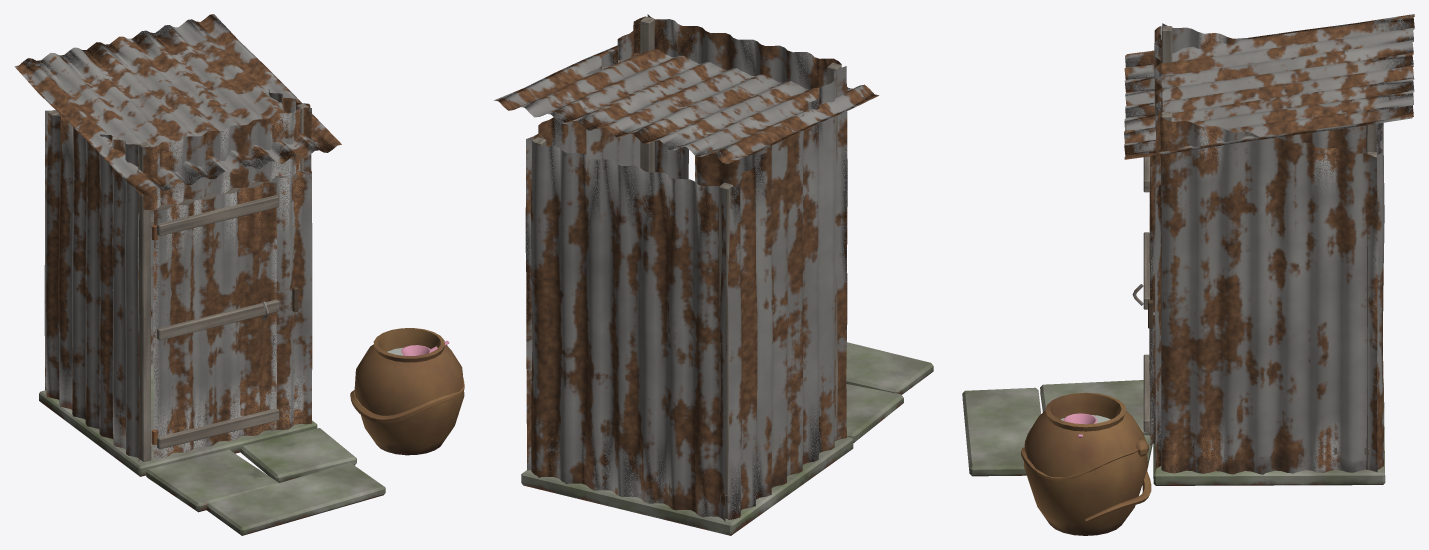
The model's file is TinOuthouse.fbx.
3 views of the same model, side by side, from view 1: azimuth 30°, elevation 25°; view 2: azimuth 150°, elevation 25°; view 3: azimuth 270°, elevation 25° (orthographic). The views are drawn at different scales.
Visible parts, largest first — view 1: TinOuthouse, TinOuthouse_Door, DragonJar; view 2: TinOuthouse, TinOuthouse_Door; view 3: TinOuthouse, DragonJar, TinOuthouse_Door.
Boxes of the visible parts, x1=… form: TinOuthouse: x1=14, y1=14, x2=385, y2=535; TinOuthouse_Door: x1=151, y1=182, x2=279, y2=458; DragonJar: x1=350, y1=328, x2=464, y2=455; TinOuthouse: x1=493, y1=14, x2=933, y2=535; TinOuthouse_Door: x1=695, y1=146, x2=771, y2=186; TinOuthouse: x1=962, y1=14, x2=1414, y2=485; DragonJar: x1=1021, y1=392, x2=1151, y2=535; TinOuthouse_Door: x1=1132, y1=155, x2=1155, y2=445.
Bounding box in the file's own units: 200 × 216 × 235.
1 material, 1 textured.
